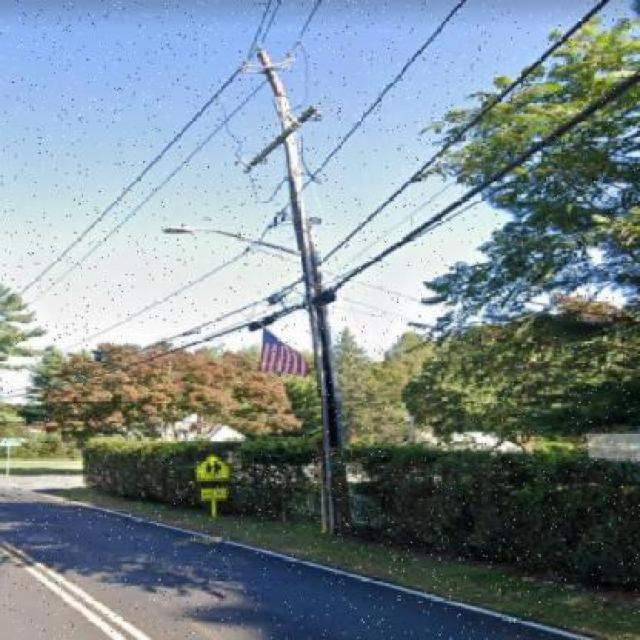pole: (117, 7, 461, 544)
